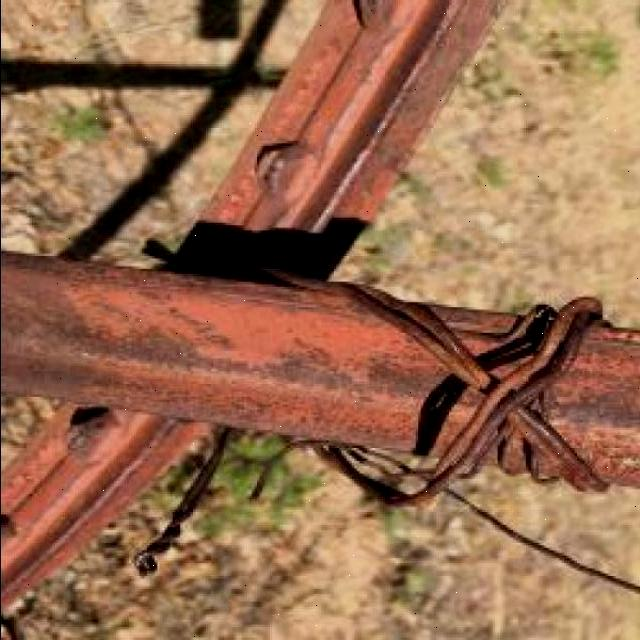corrosion: (9, 239, 640, 476), (6, 407, 196, 617)
